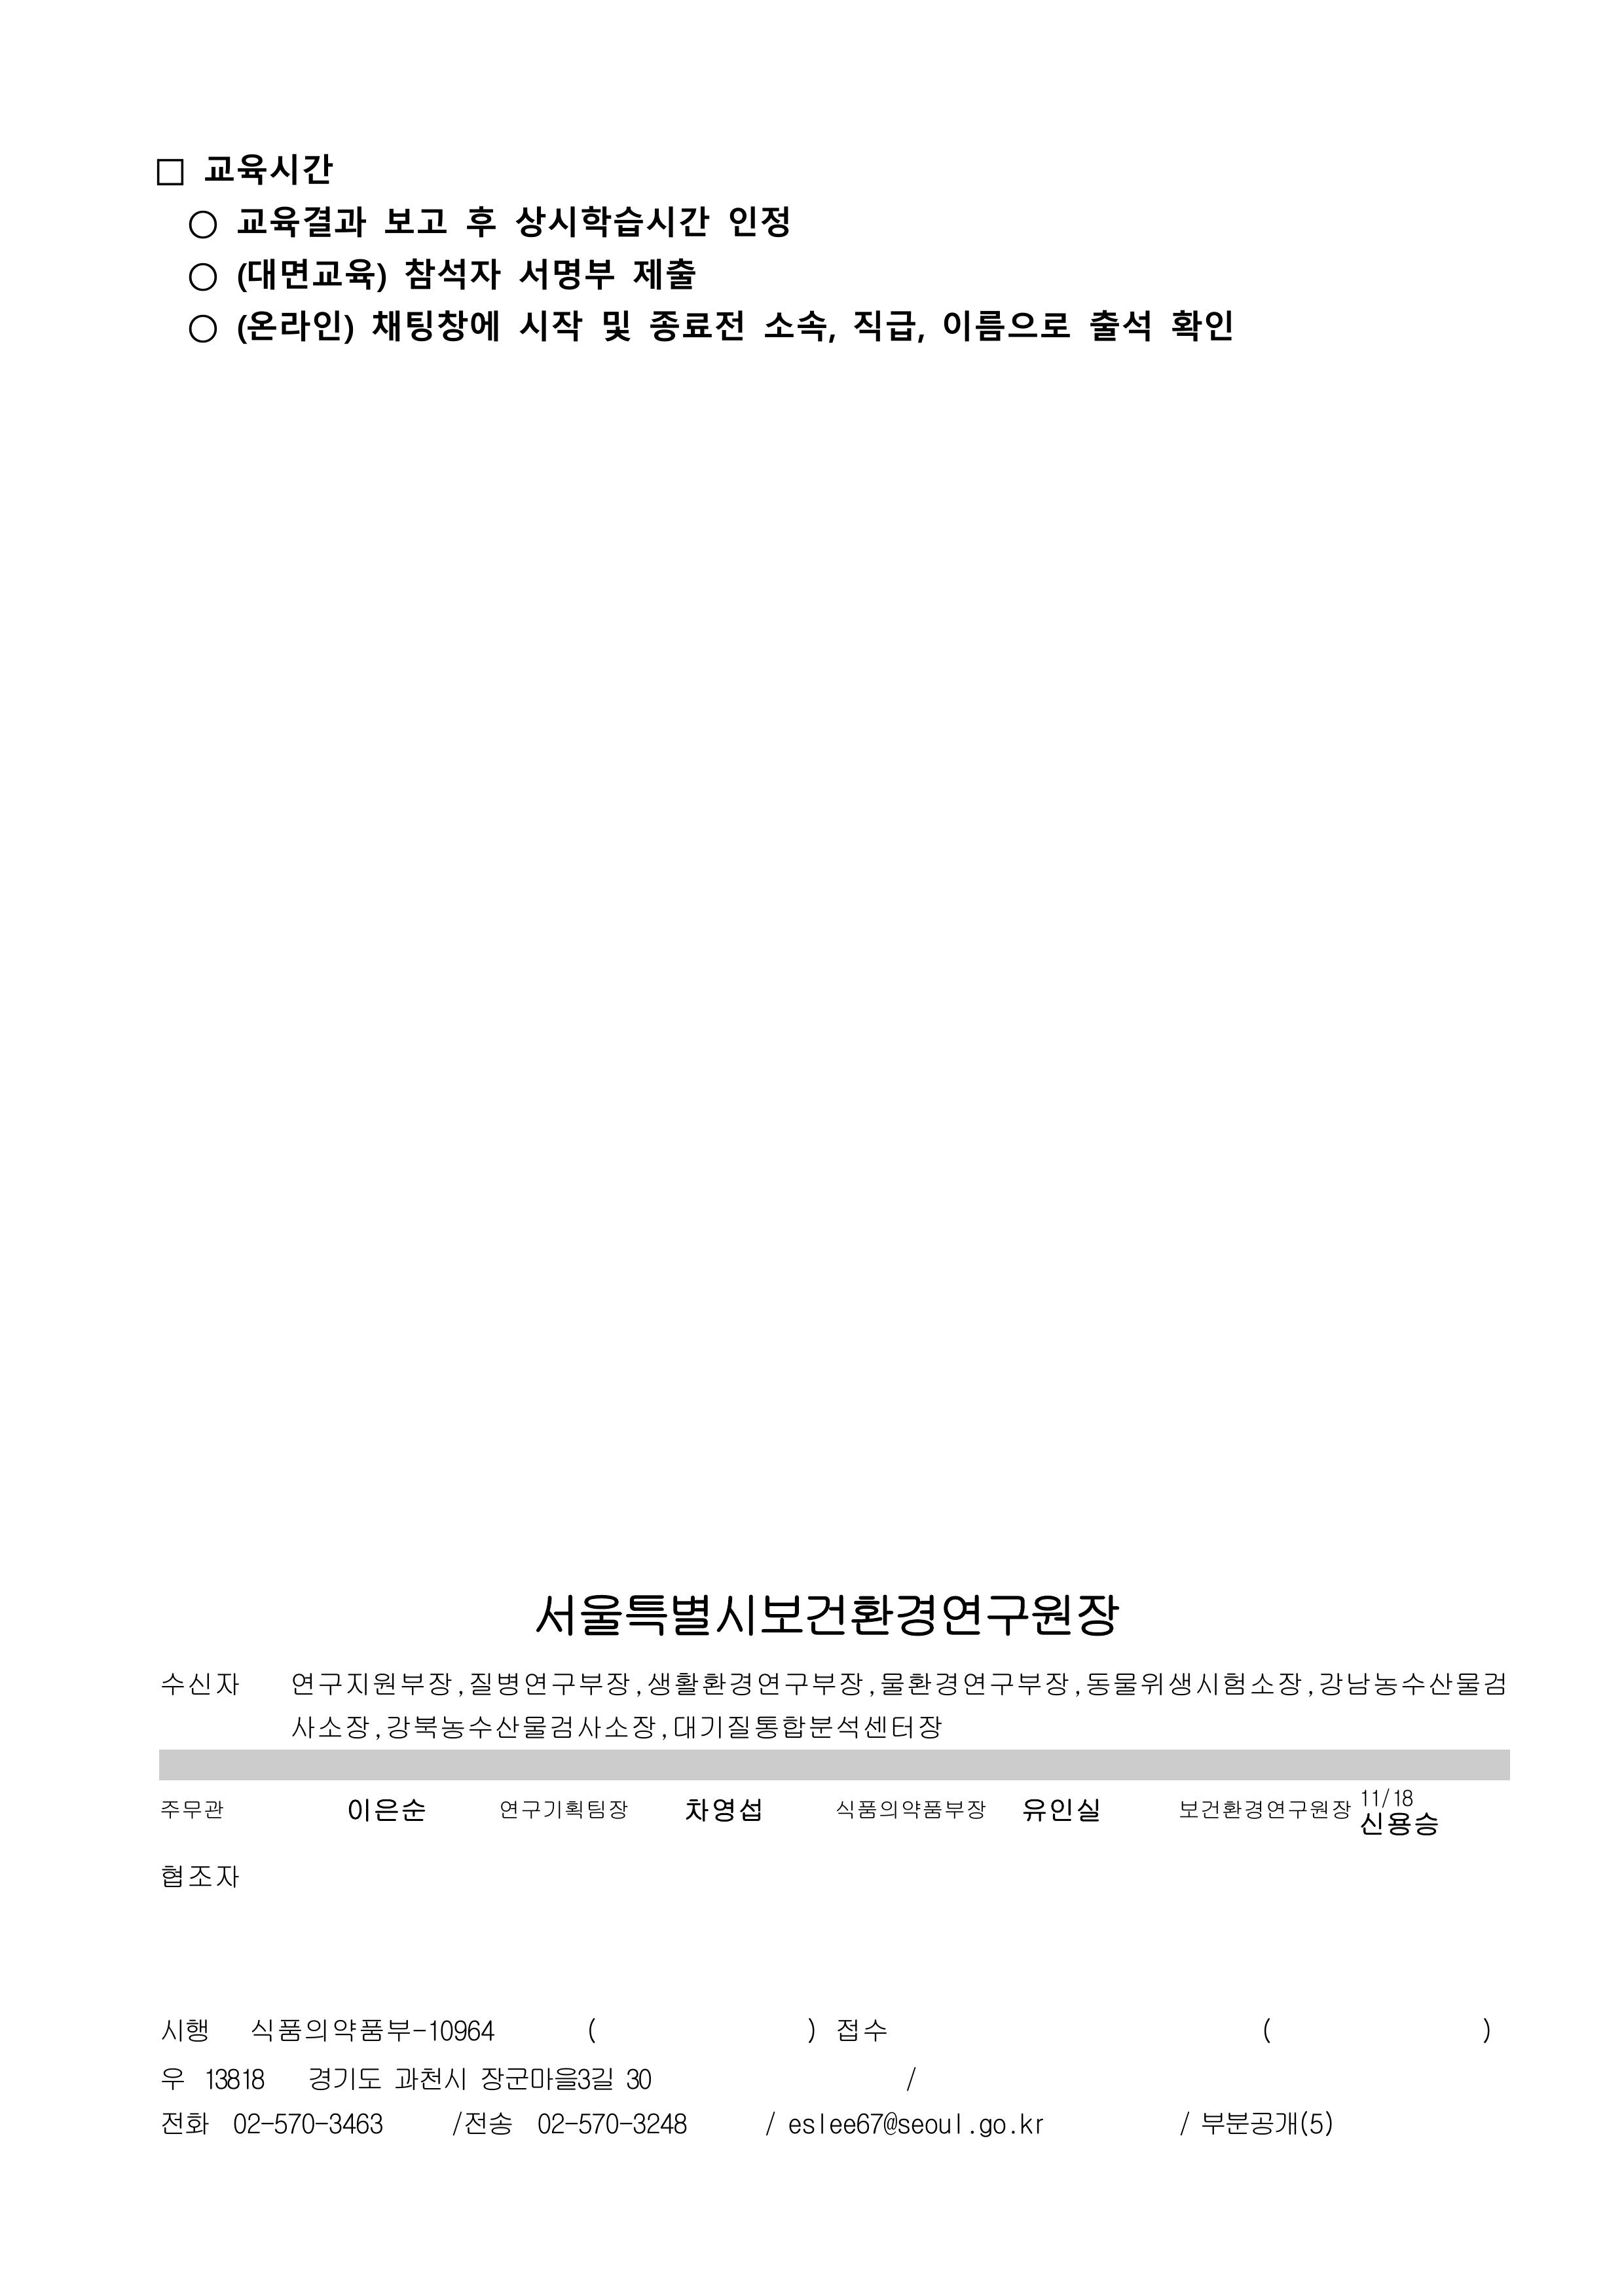t: (534, 1588, 1122, 1642), (287, 1667, 878, 1699), (875, 1667, 1305, 1703), (656, 1710, 943, 1742), (383, 1710, 659, 1742), (513, 200, 710, 240), (232, 254, 390, 294), (1316, 1667, 1506, 1699), (595, 304, 746, 344), (232, 200, 369, 240), (939, 304, 1072, 344), (369, 304, 502, 344), (247, 2015, 426, 2044), (1179, 1796, 1352, 1825), (1356, 1786, 1441, 1843), (200, 151, 333, 186), (397, 254, 506, 297), (232, 308, 358, 344), (534, 2108, 692, 2137), (516, 254, 620, 297), (477, 2062, 616, 2094), (1198, 2108, 1334, 2140), (232, 2112, 387, 2137), (828, 2112, 968, 2137), (836, 1800, 989, 1822), (498, 1800, 631, 1825), (287, 1710, 387, 1742), (627, 254, 699, 297), (681, 1793, 764, 1829), (516, 304, 588, 344), (760, 304, 832, 344), (157, 1667, 244, 1699), (157, 1861, 244, 1893), (849, 308, 925, 344), (1086, 304, 1154, 344), (1165, 304, 1233, 344), (344, 1793, 426, 1825), (1018, 1793, 1101, 1825), (390, 2062, 470, 2094), (724, 200, 788, 240), (304, 2062, 383, 2094), (383, 204, 452, 236), (200, 2062, 268, 2094), (448, 2108, 513, 2137), (426, 2019, 498, 2044), (157, 2015, 212, 2044), (832, 2015, 885, 2044), (459, 200, 498, 240), (161, 1800, 226, 1822), (161, 2112, 212, 2137), (623, 2065, 656, 2094), (154, 157, 186, 186), (788, 2116, 828, 2137), (979, 2116, 1011, 2140), (1018, 2116, 1047, 2137)
